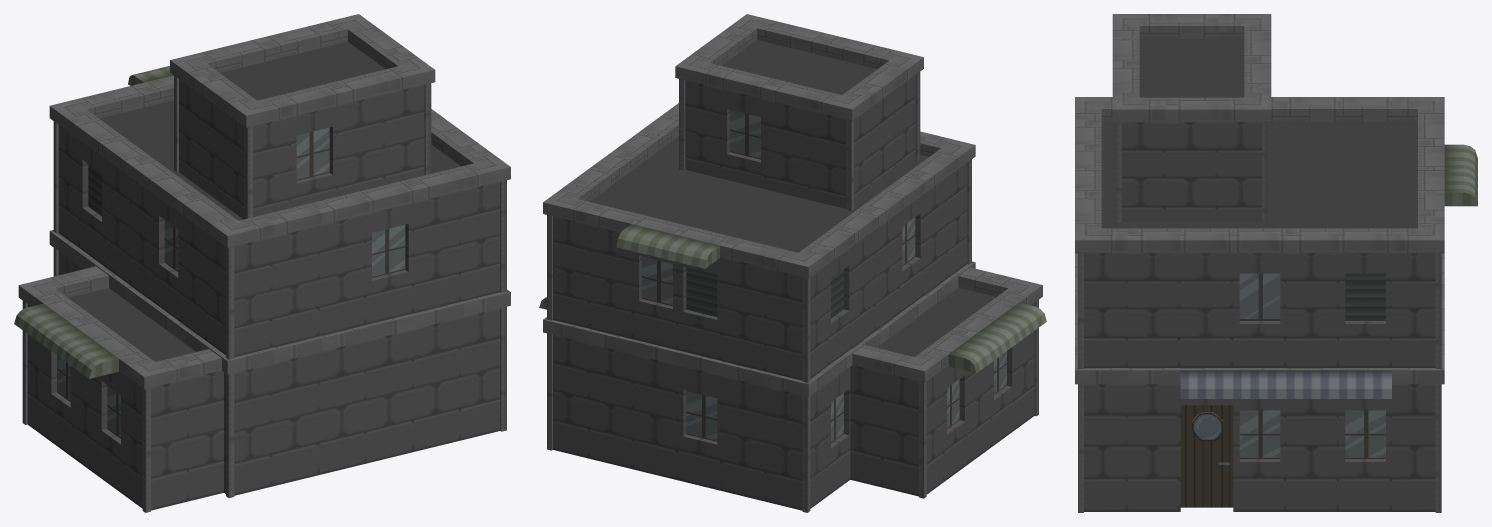
The model's file is SM_Building_B_02.fbx.
The picture shows the model from 3 angles, left to right: view 1: azimuth 30°, elevation 25°; view 2: azimuth 150°, elevation 25°; view 3: azimuth 270°, elevation 25°; orthographic projection. The views are drawn at different scales.
Parts seen in each view (by area): view 1: SM_Building_B_02; view 2: SM_Building_B_02; view 3: SM_Building_B_02.
Part boxes in pixels (bbox=[...]): SM_Building_B_02: bbox=[14, 14, 510, 512]; SM_Building_B_02: bbox=[539, 14, 1046, 512]; SM_Building_B_02: bbox=[1075, 14, 1477, 512].
Size of the model in its own units: 1000 by 823 by 800.
